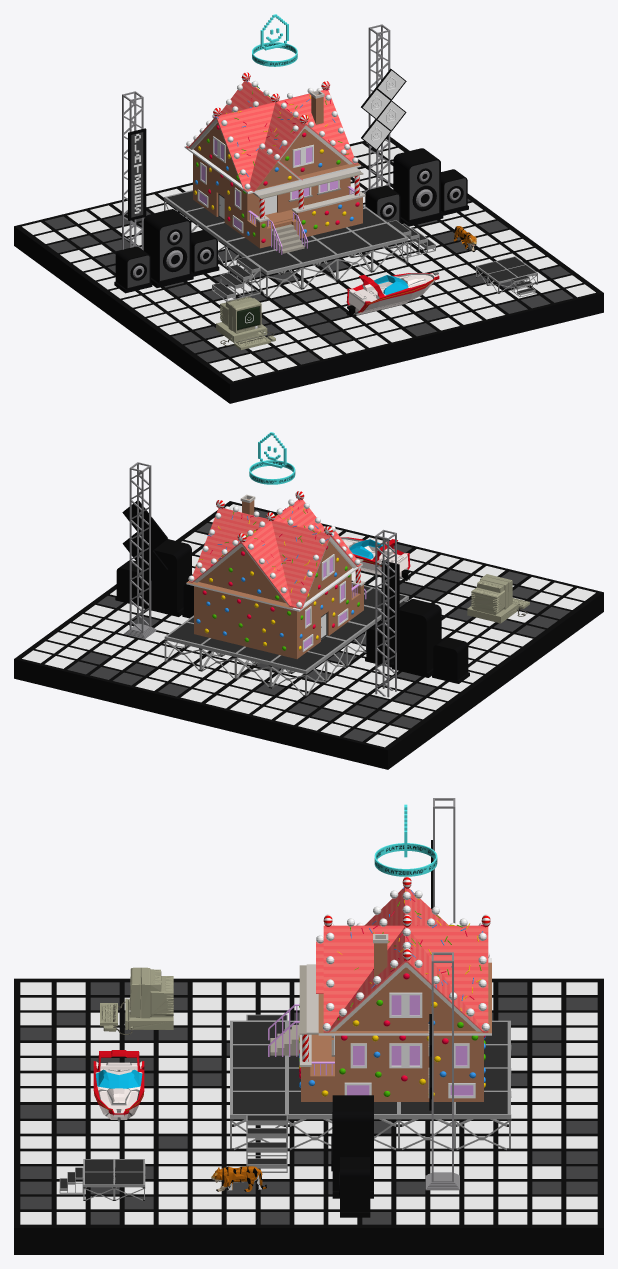
The picture shows the model from 3 angles, top to bottom: view 1: azimuth 30°, elevation 25°; view 2: azimuth 150°, elevation 25°; view 3: azimuth 270°, elevation 25°; orthographic projection. The views are drawn at different scales.
Visible parts, largest first — view 1: Cube.008, Cube.1203, VEHICLES_BOAT, OBJRANDOM_RETRO_PC, TYPE_PREMIUM; view 2: Cube.008, Cube.1203, OBJRANDOM_RETRO_PC, VEHICLES_BOAT, TYPE_PREMIUM; view 3: Cube.008, Cube.1203, OBJRANDOM_RETRO_PC, VEHICLES_BOAT, TYPE_PREMIUM, ANIMAL_TIGRE.
Part boxes in pixels (left/top/right/bottom): Cube.008: left=14, top=24, right=603, bottom=403; Cube.1203: left=184, top=72, right=365, bottom=254; VEHICLES_BOAT: left=346, top=272, right=439, bottom=316; OBJRANDOM_RETRO_PC: left=216, top=296, right=275, bottom=349; TYPE_PREMIUM: left=252, top=14, right=297, bottom=66; Cube.008: left=14, top=462, right=603, bottom=769; Cube.1203: left=186, top=491, right=366, bottom=658; OBJRANDOM_RETRO_PC: left=467, top=574, right=529, bottom=623; VEHICLES_BOAT: left=340, top=537, right=410, bottom=580; TYPE_PREMIUM: left=249, top=432, right=295, bottom=484; Cube.008: left=14, top=798, right=603, bottom=1254; Cube.1203: left=268, top=876, right=491, bottom=1101; OBJRANDOM_RETRO_PC: left=100, top=967, right=173, bottom=1034; VEHICLES_BOAT: left=93, top=1050, right=144, bottom=1121; TYPE_PREMIUM: left=374, top=804, right=437, bottom=876; ANIMAL_TIGRE: left=211, top=1166, right=266, bottom=1191.
Bounding box in the file's own units: 4000 × 2528 × 4000.
Materials: 47 (3 with a texture image).
